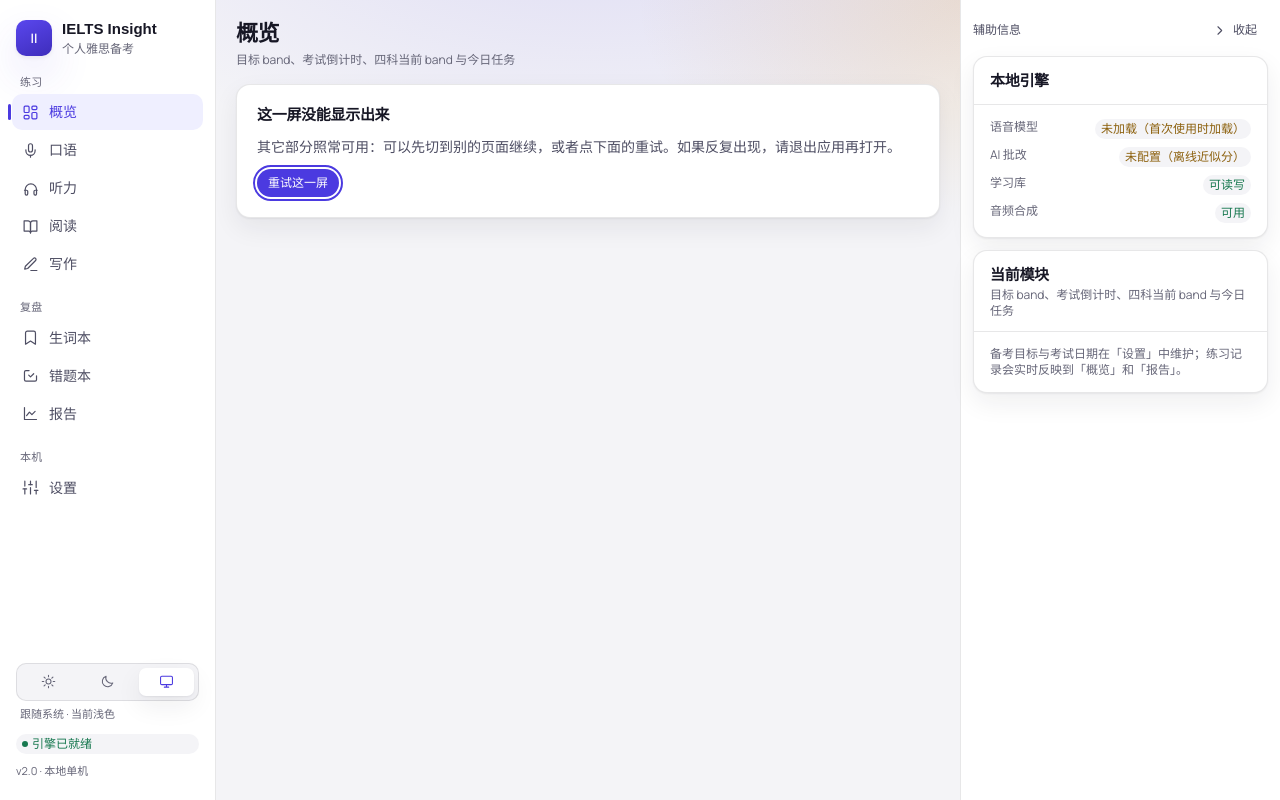
App 外壳 × ErrorBoundary › 设置里关掉「允许在线服务」后，右栏音频合成读数跟着变（§15.2 第 5 条）
The image size is (1280, 800).
Expected: the text "引擎已就绪" is shown, [16,734,199,754]
Click the button "设置" at (108, 488), box [12,470,203,506]
(page scrolled)
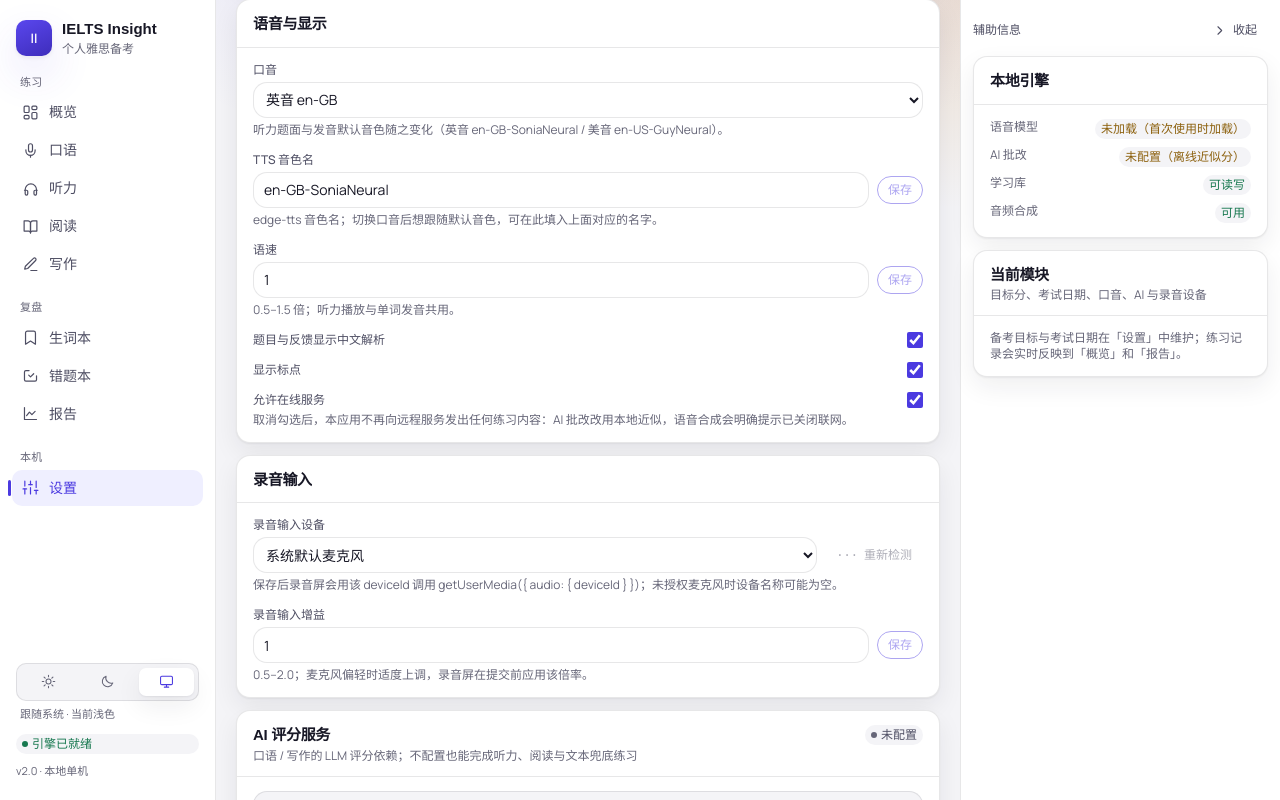
Expected: the text "可用" is shown, [1215,203,1251,223]
Click the checkbox labelled "允许在线服务" at (915, 400), box [907,392,923,408]
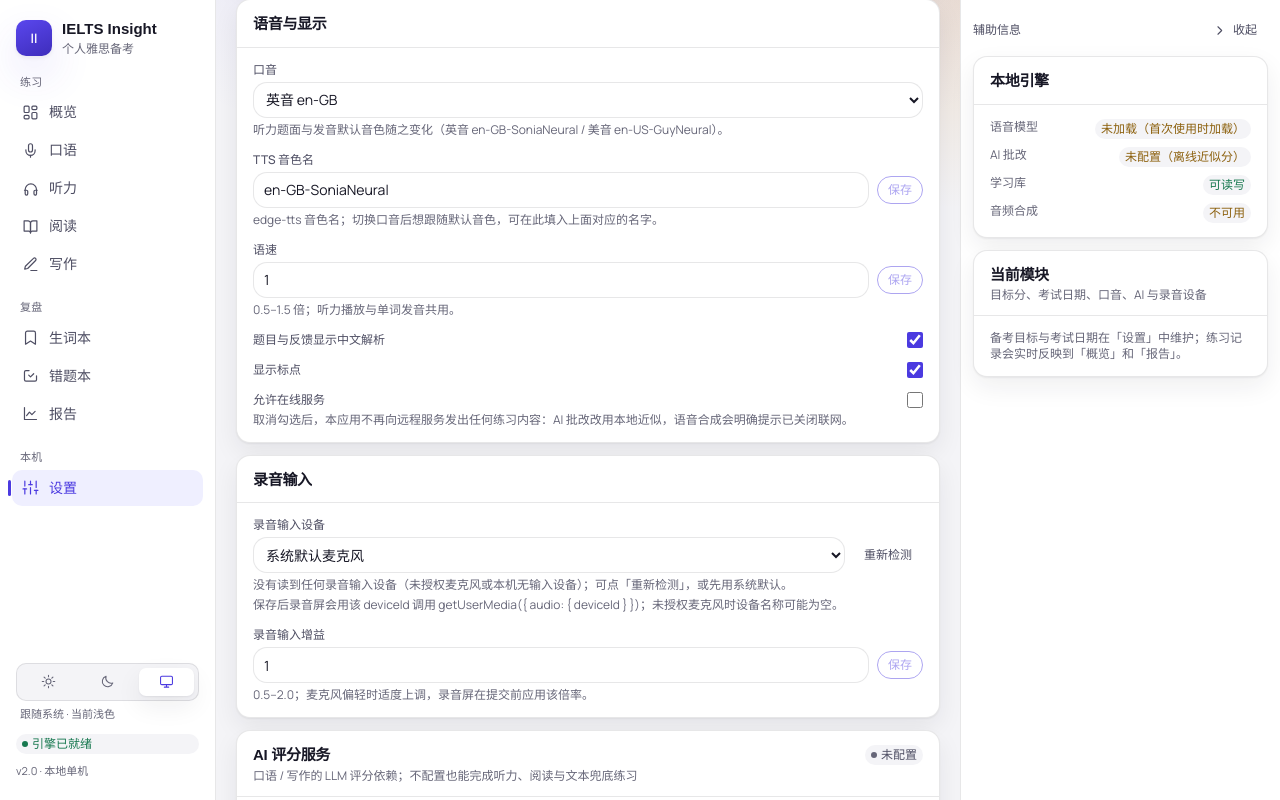
Result: the text "不可用" is shown at [1203,203,1251,223]
